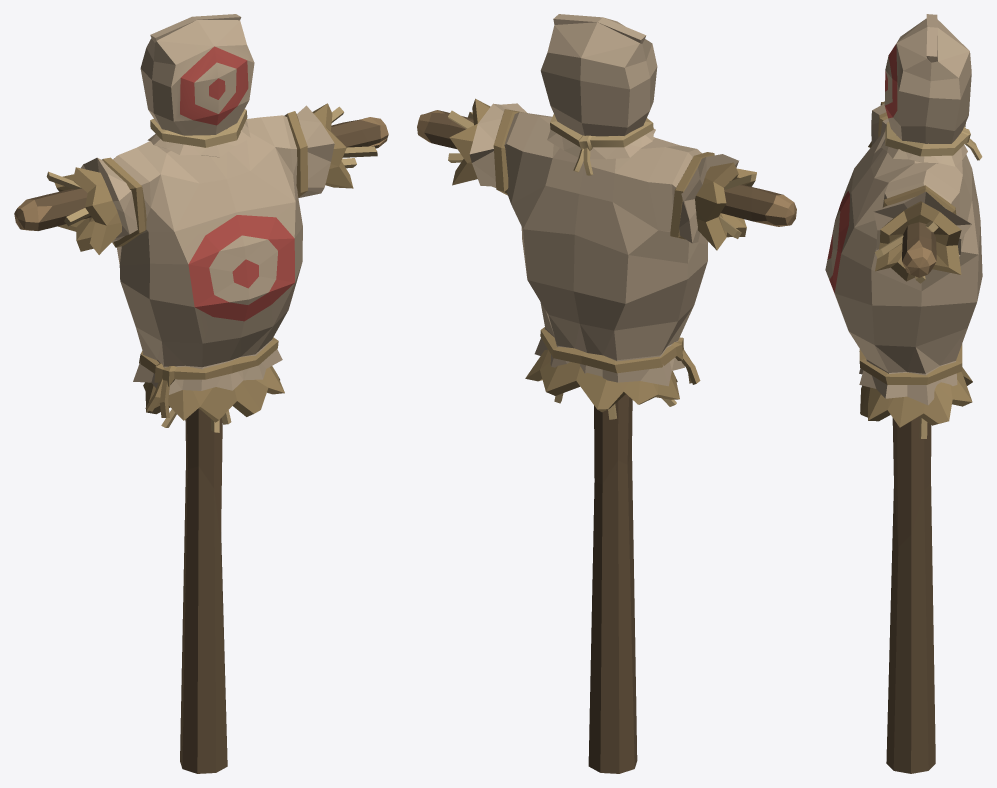
The model's file is castle_dummy_straw.gltf.
3 views of the same model, side by side, from view 1: azimuth 30°, elevation 25°; view 2: azimuth 150°, elevation 25°; view 3: azimuth 270°, elevation 25° (orthographic).
Parts seen in each view (by area): view 1: castle_dummy_straw; view 2: castle_dummy_straw; view 3: castle_dummy_straw.
Boxes of the visible parts, bbox=[...] form: castle_dummy_straw: bbox=[14, 14, 388, 773]; castle_dummy_straw: bbox=[417, 14, 796, 773]; castle_dummy_straw: bbox=[825, 14, 982, 773].
Size of the model in its own units: 0.9931 by 1.9 by 0.368.
Materials: 1 (1 with a texture image).
